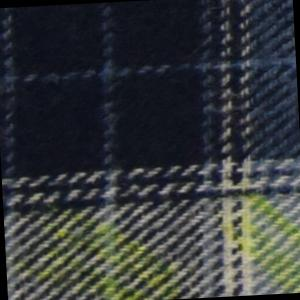Stain: (10, 199, 182, 300), (211, 176, 300, 297)
